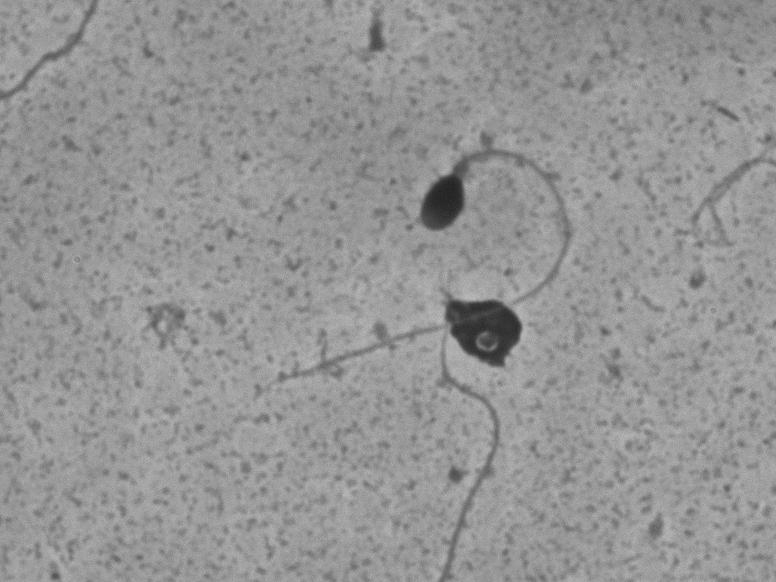Normal: (240, 142, 586, 402)
